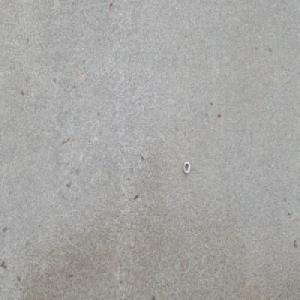Nut: (182, 161, 190, 175)
